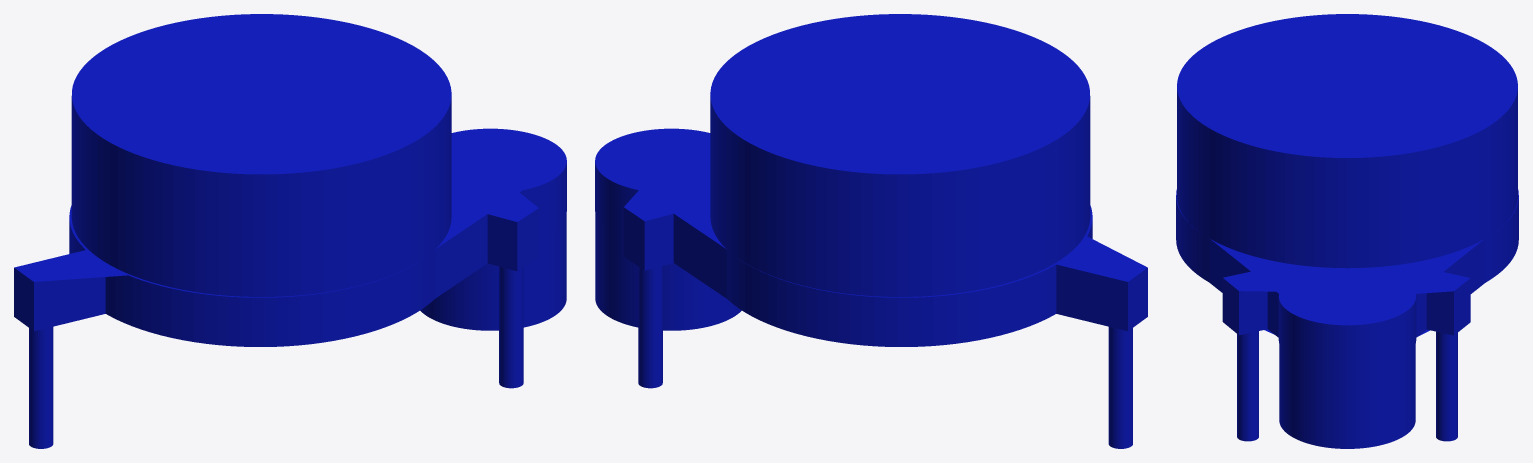
The model's file is lidar.obj.
3 renders of one model, left to right at view 1: azimuth 30°, elevation 25°; view 2: azimuth 150°, elevation 25°; view 3: azimuth 270°, elevation 25°, orthographic. The views are drawn at different scales.
Parts seen in each view (by area): view 1: Cube.012_Cube.004; view 2: Cube.012_Cube.004; view 3: Cube.012_Cube.004.
Boxes of the visible parts, box(x1,y1,x2,y2) form: Cube.012_Cube.004: box(14, 14, 566, 448); Cube.012_Cube.004: box(595, 14, 1147, 448); Cube.012_Cube.004: box(1176, 14, 1518, 448).
Bounding box in the file's own units: 0.0972 × 0.0515 × 0.0603.
